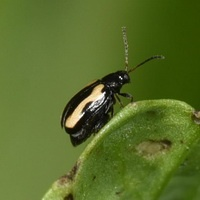insect: (61, 27, 164, 145)
